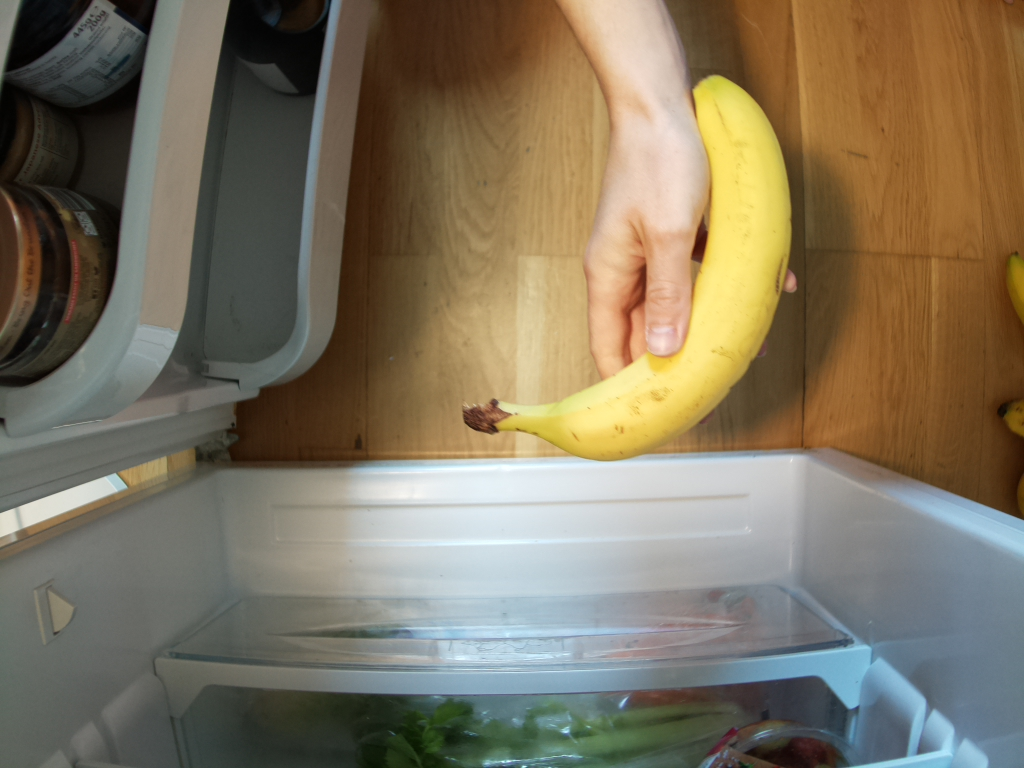banana: (463, 68, 805, 456)
